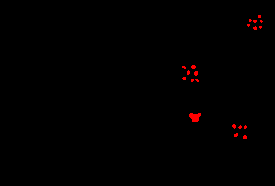Target: (189, 113, 201, 122), (191, 65, 196, 69), (194, 71, 198, 76), (232, 124, 236, 129), (253, 26, 257, 30), (238, 125, 242, 129), (234, 133, 238, 137), (243, 135, 247, 139), (187, 70, 190, 75), (253, 20, 257, 23), (182, 66, 186, 69), (182, 77, 186, 80), (195, 79, 199, 82), (244, 125, 247, 129), (258, 15, 261, 18), (249, 19, 252, 22), (260, 20, 263, 23), (247, 24, 250, 27), (259, 26, 262, 29), (191, 79, 194, 82)
